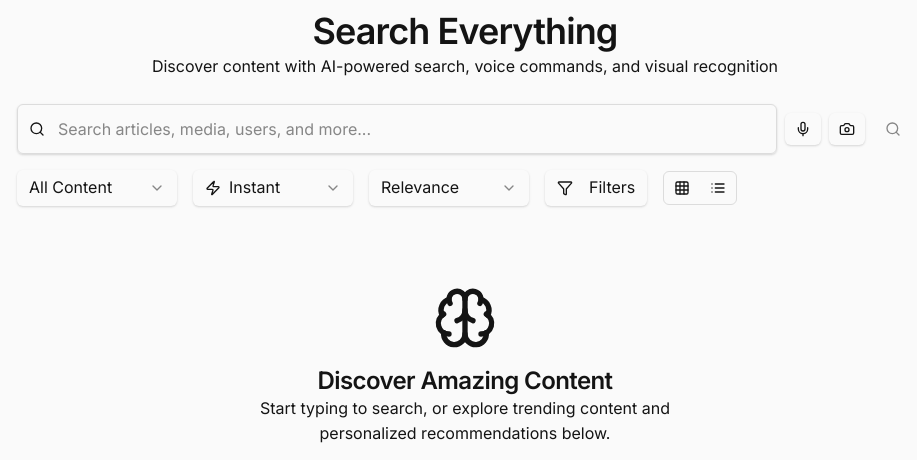
it: SearchHub › handles scope change
Click the dropdown "All Content" at (97, 188), box x1=17 y1=170 x2=177 y2=206
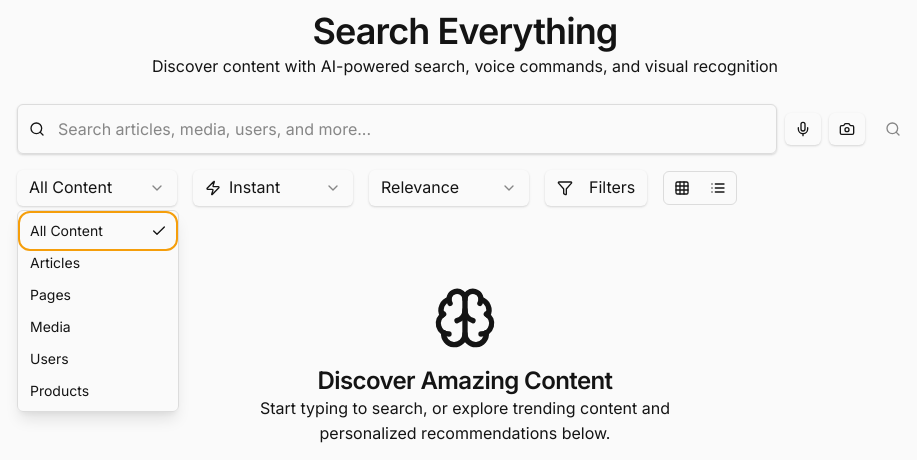
Now the text "Articles" is shown, box x1=30 y1=253 x2=80 y2=273
Now the text "Pages" is shown, box x1=30 y1=285 x2=71 y2=305
Now the text "Media" is shown, box x1=30 y1=317 x2=71 y2=337
